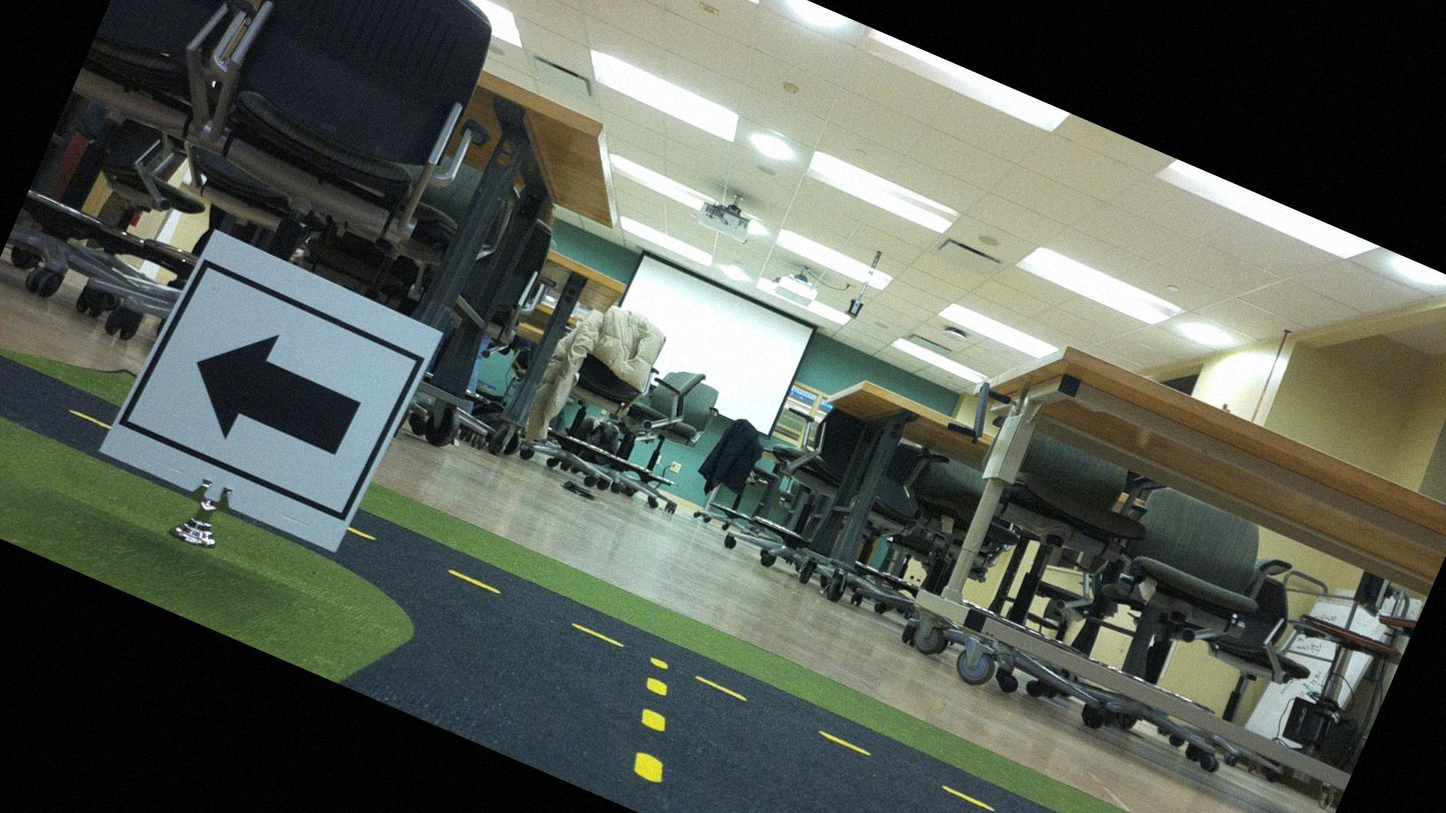turnleft: (115, 233, 435, 540)
yellowline: (358, 528, 1249, 812), (608, 671, 697, 787)
